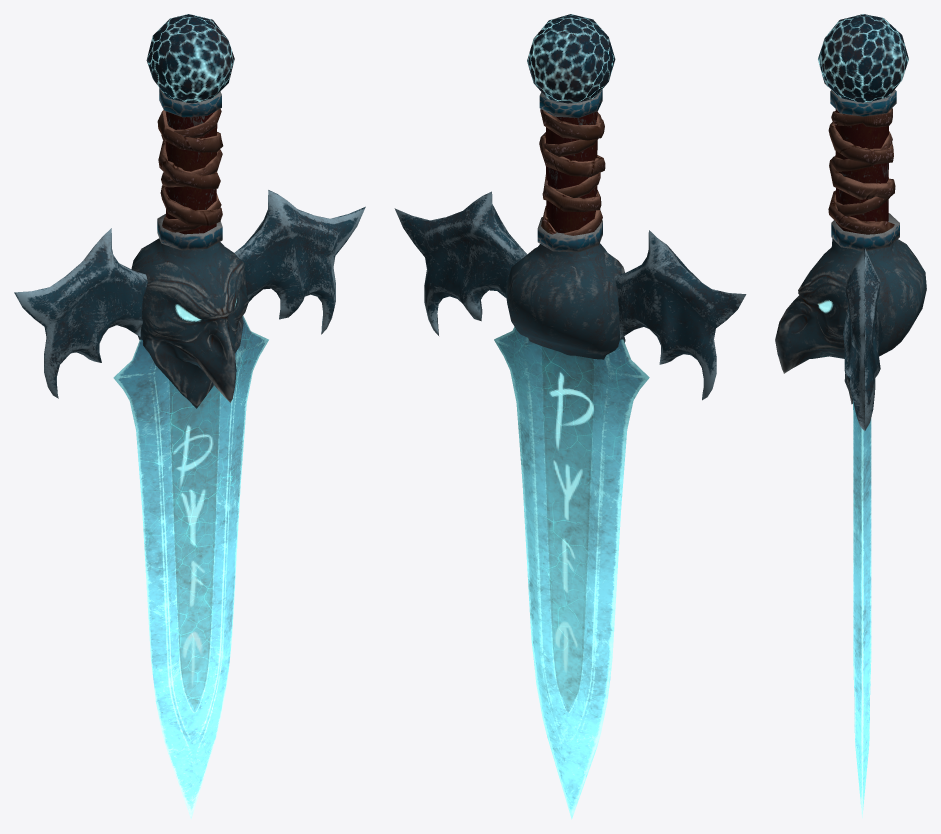
File: magical_frost_dagger__stylized_fantasy_weapon.glb
The picture shows the model from 3 angles, left to right: view 1: azimuth 30°, elevation 25°; view 2: azimuth 150°, elevation 25°; view 3: azimuth 270°, elevation 25°; orthographic projection.
Parts seen in each view (by area): view 1: blade_low, wings_low, head_low, diamond3_low, skil1_low, truba_low, diamond1_low, skil2_low; view 2: blade_low, wings_low, head_low, diamond3_low, skil1_low, truba_low, diamond1_low, skil2_low; view 3: head_low, blade_low, diamond3_low, wings_low, skil1_low, truba_low, diamond1_low, skil2_low.
Boxes of the visible parts, bbox=[...] form: blade_low: bbox=[113, 315, 268, 819]; wings_low: bbox=[14, 190, 365, 398]; head_low: bbox=[131, 238, 248, 408]; diamond3_low: bbox=[146, 14, 234, 103]; skil1_low: bbox=[157, 110, 223, 225]; truba_low: bbox=[165, 111, 217, 234]; diamond1_low: bbox=[157, 88, 222, 250]; skil2_low: bbox=[161, 108, 222, 232]; blade_low: bbox=[494, 327, 649, 819]; wings_low: bbox=[394, 191, 746, 400]; head_low: bbox=[505, 243, 625, 359]; diamond3_low: bbox=[527, 14, 615, 103]; skil1_low: bbox=[539, 109, 605, 234]; truba_low: bbox=[546, 111, 597, 233]; diamond1_low: bbox=[537, 89, 602, 252]; skil2_low: bbox=[542, 112, 602, 235]; head_low: bbox=[775, 238, 926, 404]; blade_low: bbox=[853, 401, 871, 818]; diamond3_low: bbox=[818, 14, 908, 102]; wings_low: bbox=[843, 248, 883, 430]; skil1_low: bbox=[828, 108, 895, 234]; truba_low: bbox=[835, 109, 888, 233]; diamond1_low: bbox=[830, 89, 899, 250]; skil2_low: bbox=[831, 111, 892, 216].
Bounding box in the file's own units: 2.27 × 4.95 × 0.8486.
Materials: 1 (1 with a texture image).
